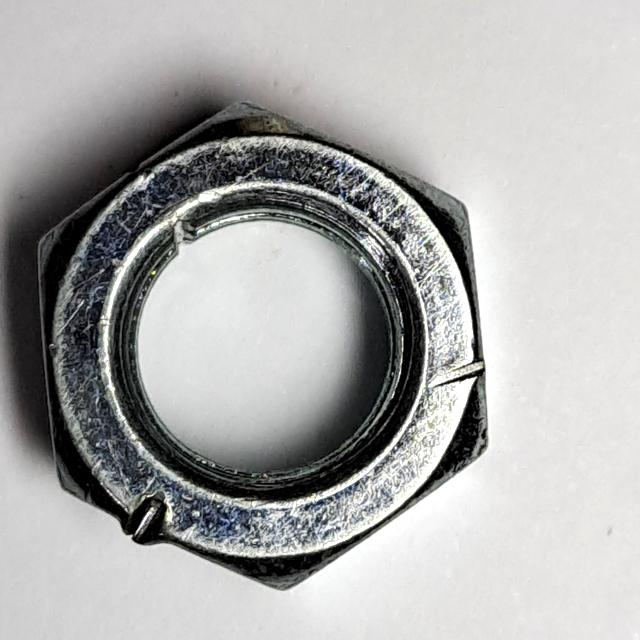Scratches: (34, 81, 503, 604)
